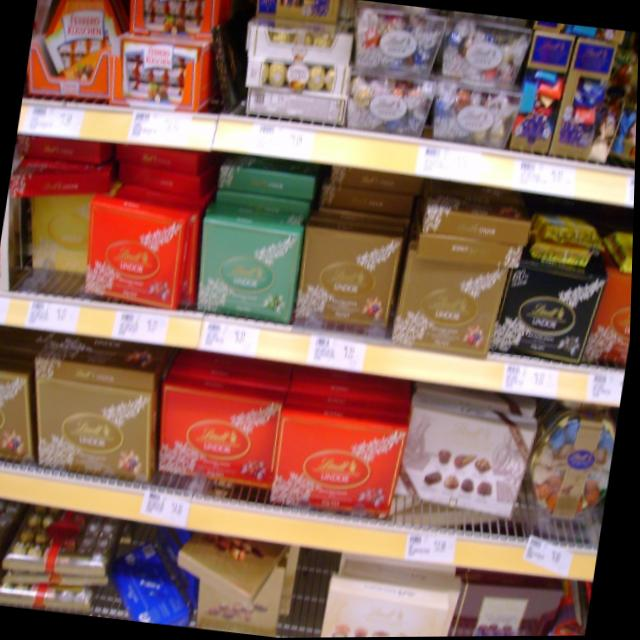q112: (24, 351, 167, 481), (0, 367, 46, 474)
